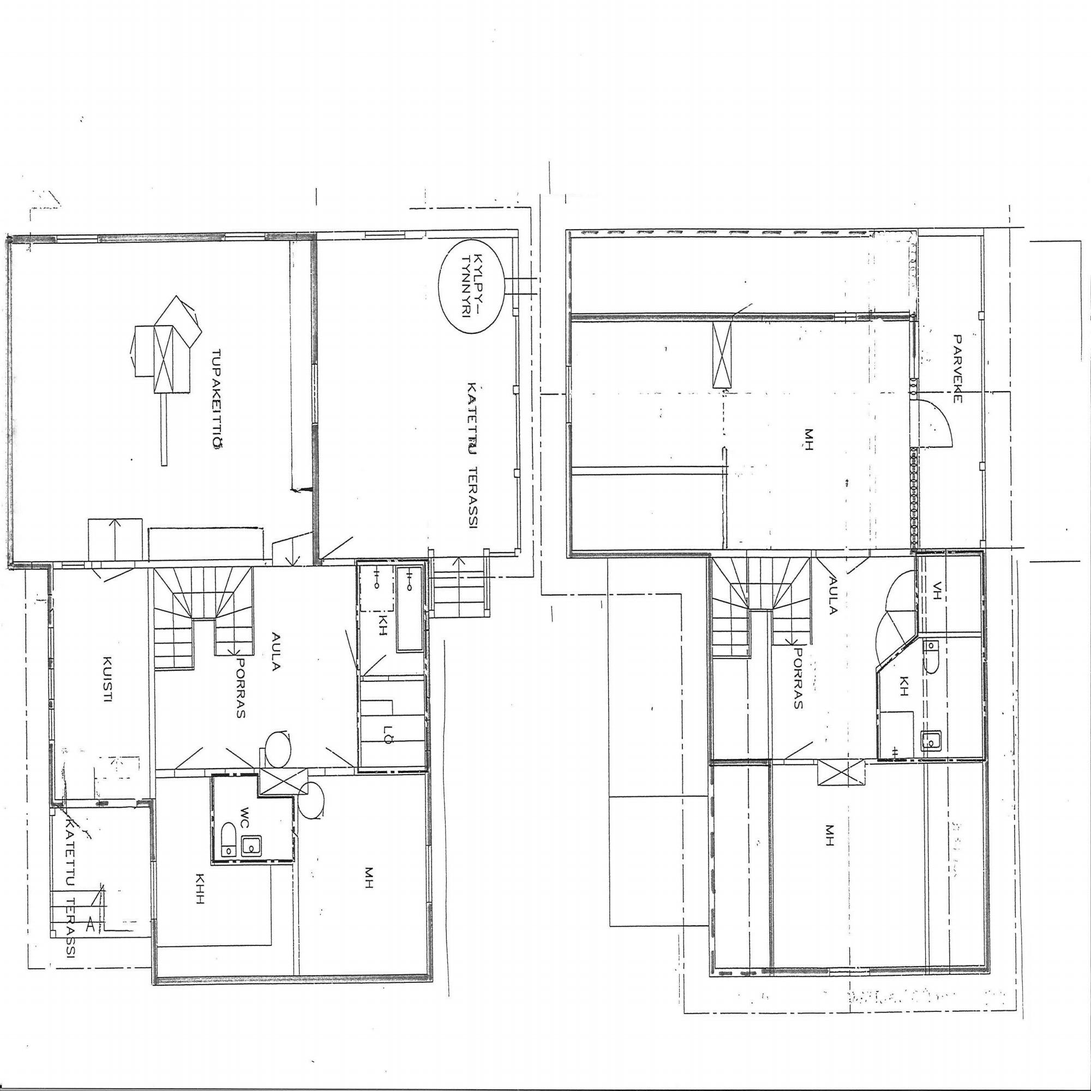wall: (8, 558, 435, 570), (565, 228, 920, 240), (6, 231, 318, 244), (566, 549, 987, 558), (709, 965, 990, 977), (565, 313, 919, 322), (152, 973, 433, 984), (149, 768, 431, 777), (311, 241, 319, 558), (909, 323, 920, 548), (316, 228, 519, 240), (707, 757, 990, 765), (7, 244, 14, 561), (980, 236, 986, 549), (707, 765, 716, 967), (48, 571, 56, 797), (147, 568, 156, 768), (875, 635, 919, 674), (514, 316, 521, 545), (706, 558, 714, 758), (565, 466, 727, 475), (982, 766, 989, 963), (150, 807, 158, 975), (768, 764, 774, 968), (425, 777, 431, 971), (925, 763, 930, 967), (565, 323, 572, 466), (981, 637, 989, 757), (49, 799, 155, 808), (767, 612, 773, 758), (423, 679, 431, 767), (909, 239, 919, 309), (423, 566, 429, 674), (355, 568, 361, 675), (511, 239, 519, 317), (919, 227, 984, 236), (565, 240, 573, 312), (566, 475, 573, 550), (980, 558, 987, 629), (722, 473, 728, 548), (916, 632, 987, 638), (356, 682, 361, 766), (483, 558, 490, 618), (356, 675, 430, 680), (914, 559, 919, 632), (876, 673, 880, 757), (483, 548, 519, 556), (150, 779, 156, 797), (723, 447, 727, 467)
